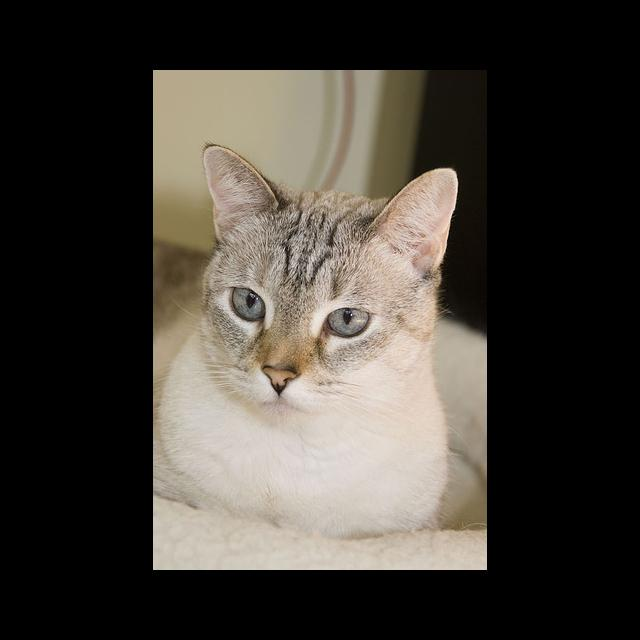animals: (209, 147, 452, 389)
